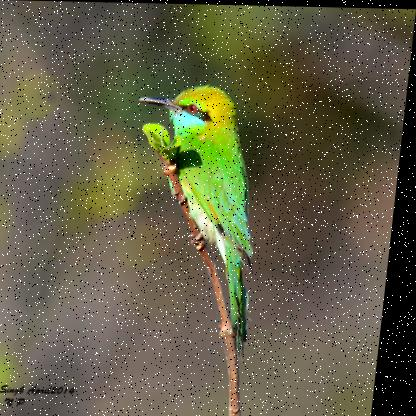Burung: (118, 83, 278, 357)
